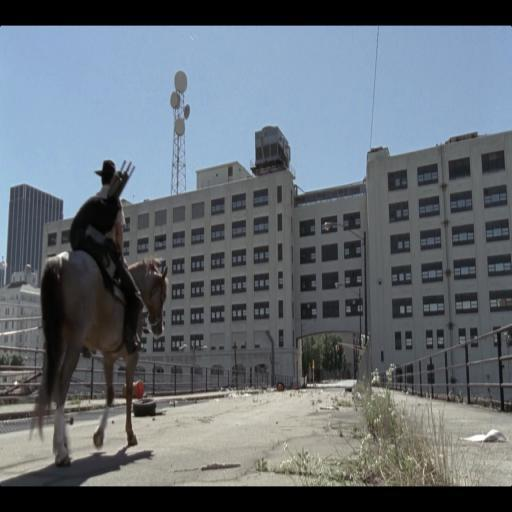Horse: (25, 254, 170, 466)
